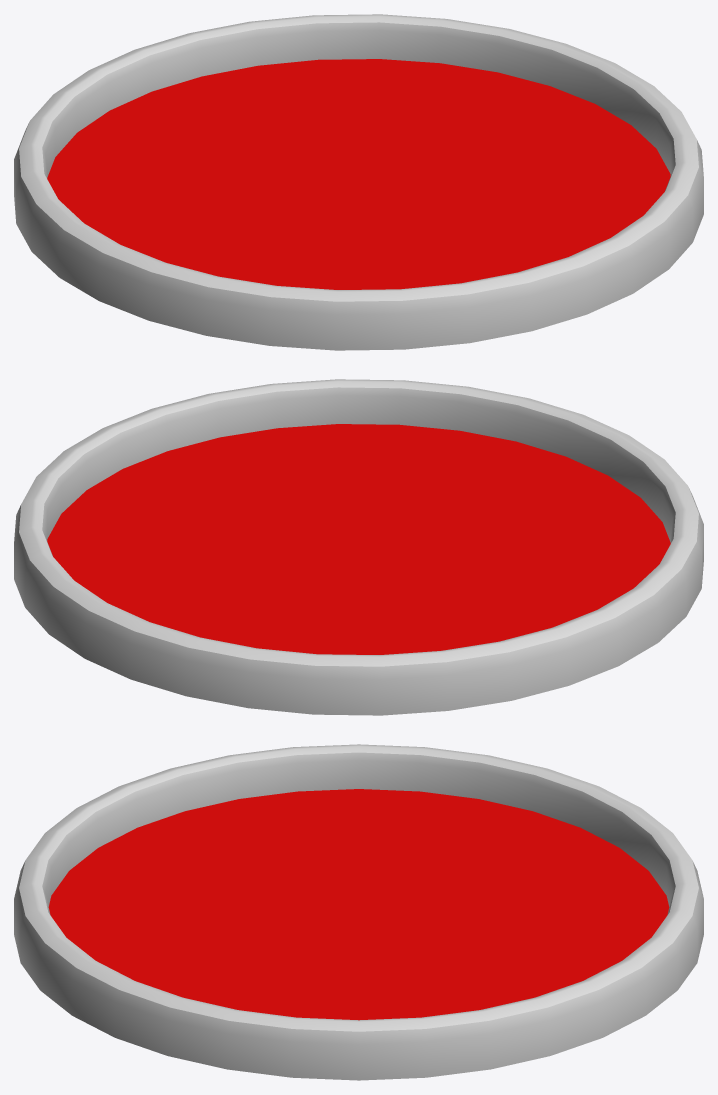
File: RahmenRund 1.fbx
3 renders of one model, top to bottom at view 1: azimuth 30°, elevation 25°; view 2: azimuth 150°, elevation 25°; view 3: azimuth 270°, elevation 25°, orthographic.
Parts seen in each view (by area): view 1: Cylinder; view 2: Cylinder; view 3: Cylinder.
Boxes of the visible parts, x1,y1,x2,y2 form: Cylinder: (14,14,703,350); Cylinder: (14,379,703,715); Cylinder: (14,744,703,1080).
Bounding box in the file's own units: 208 × 16.99 × 208.
